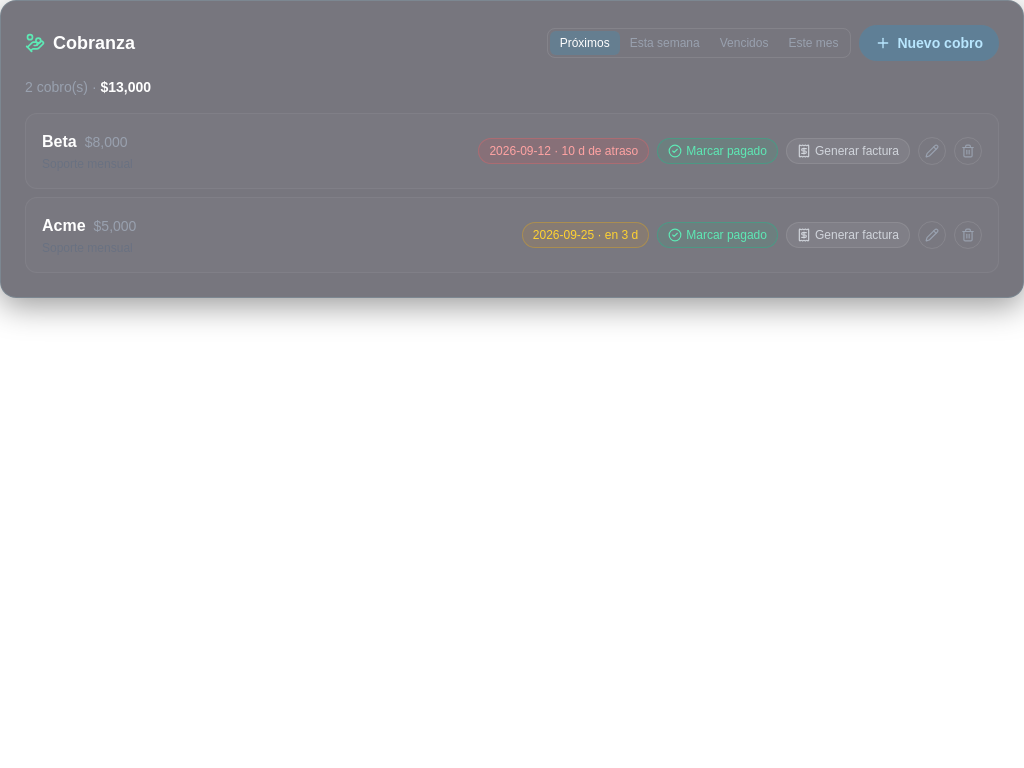
Scenario: CobranzaSection › toggles the 'Nuevo cobro' form and lists the passed clients
The image size is (1024, 768).
Click the button "Nuevo cobro": (929, 43) [859,25,999,61]
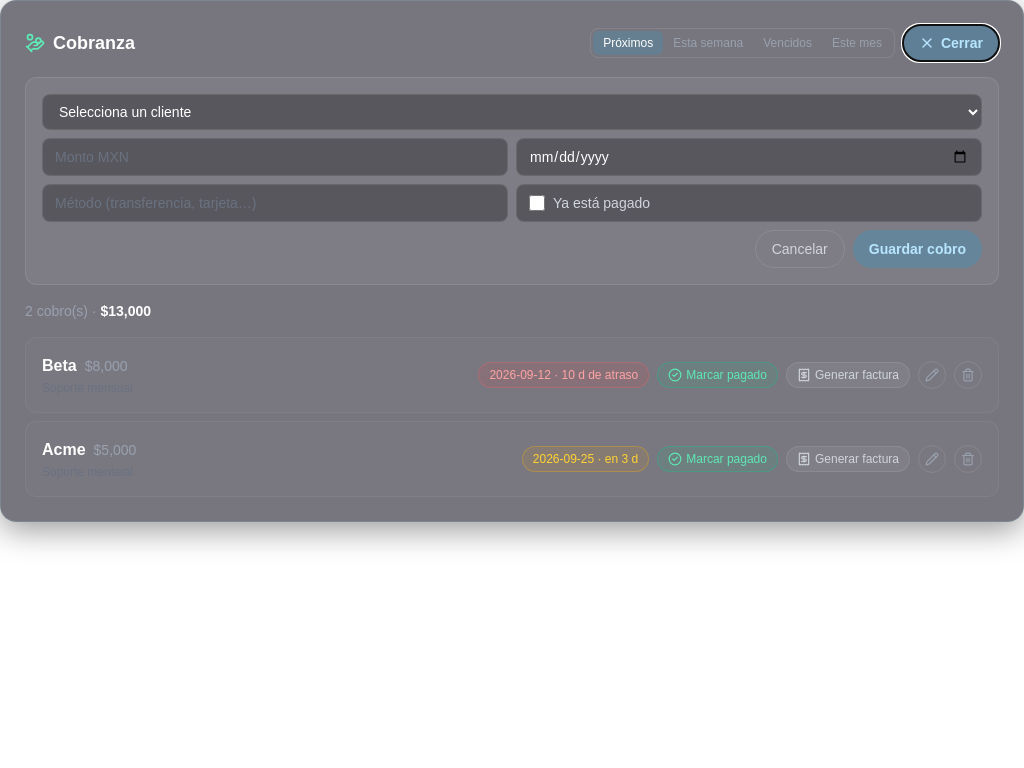
Expected: the button "Guardar cobro" is shown, [853,230,982,268]
